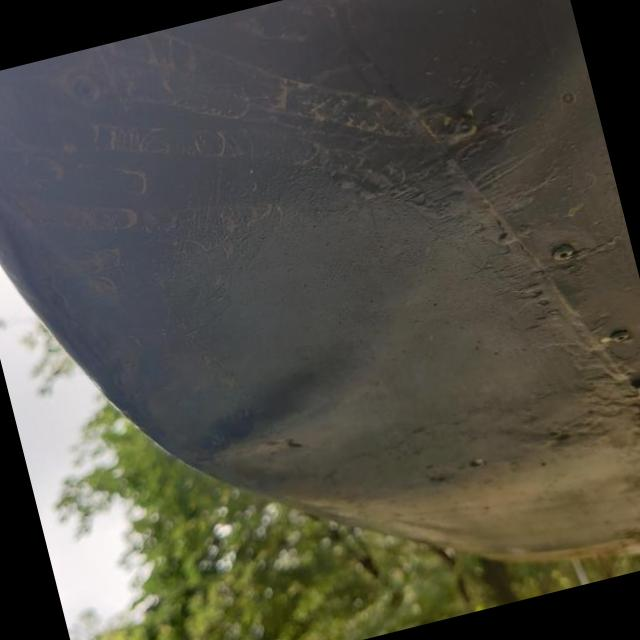Dent: (142, 315, 397, 497)
